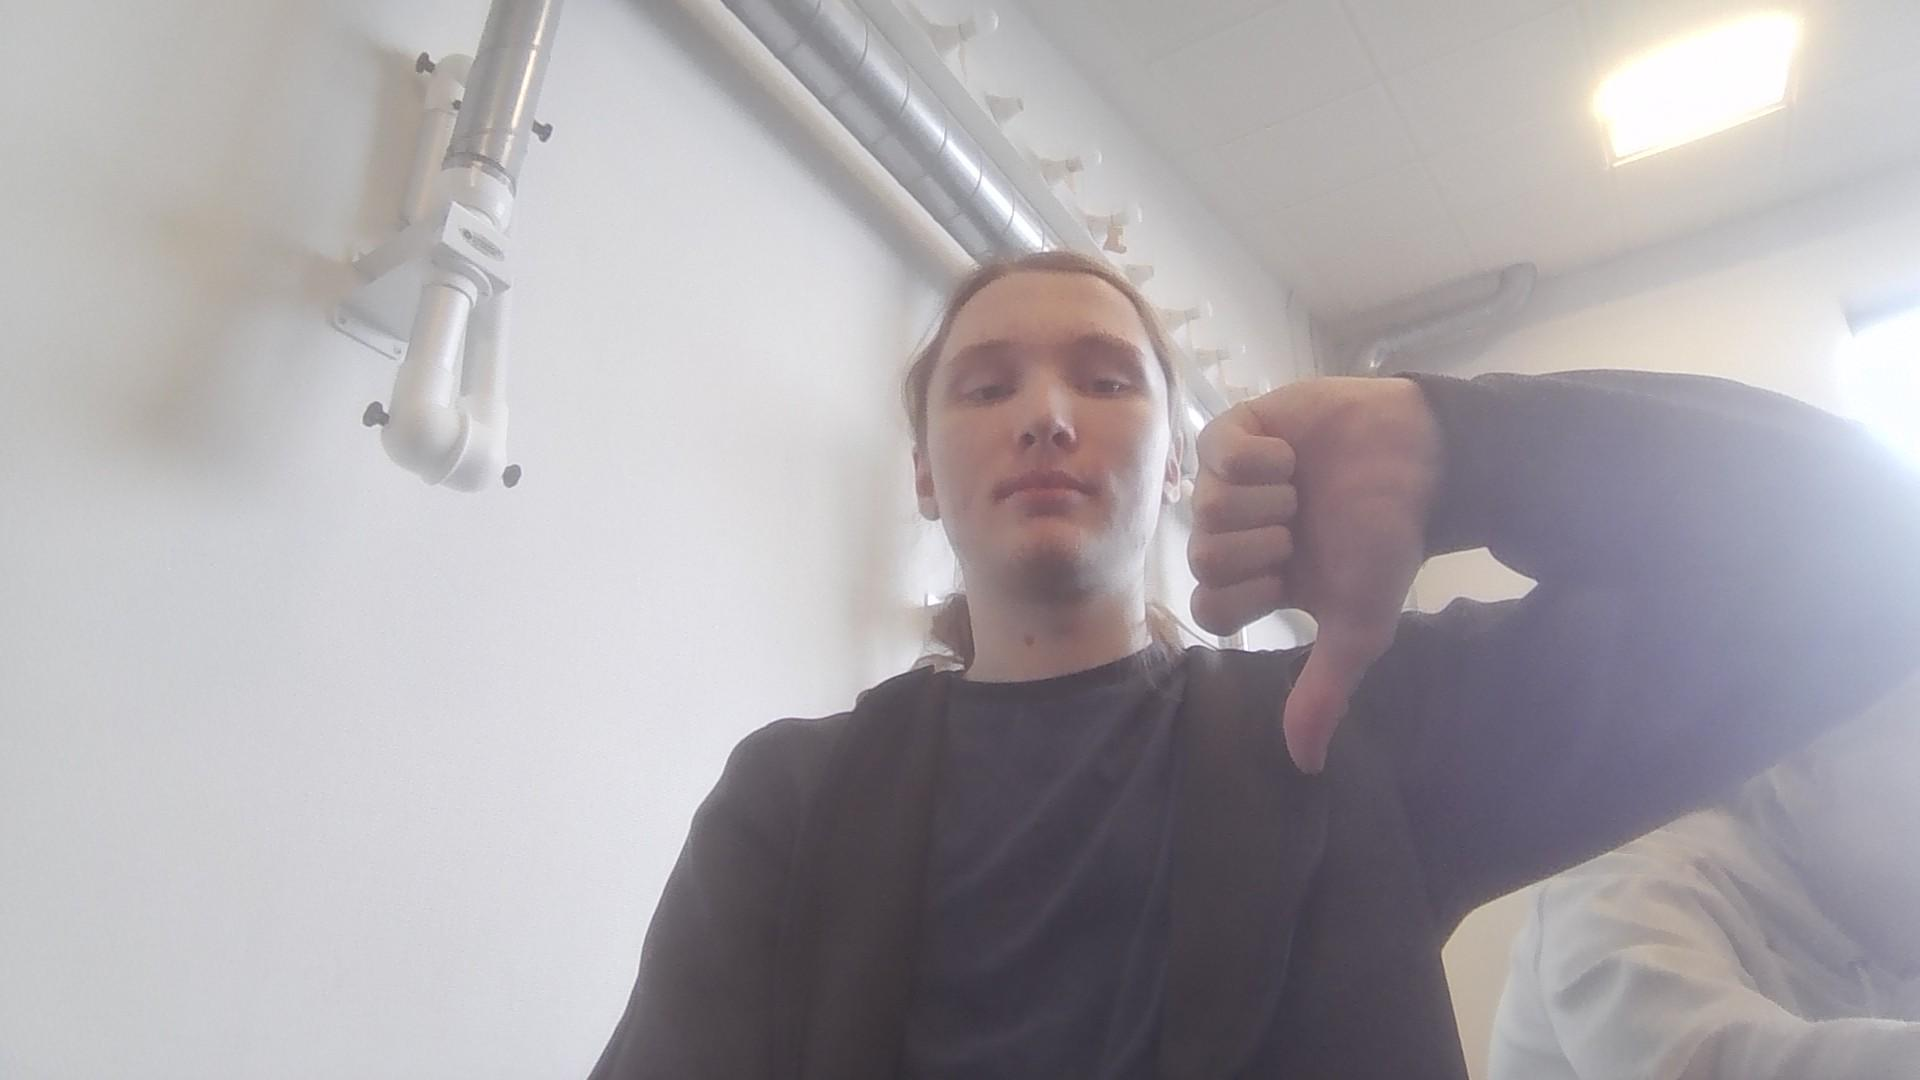thumbs down: (1185, 359, 1458, 785)
